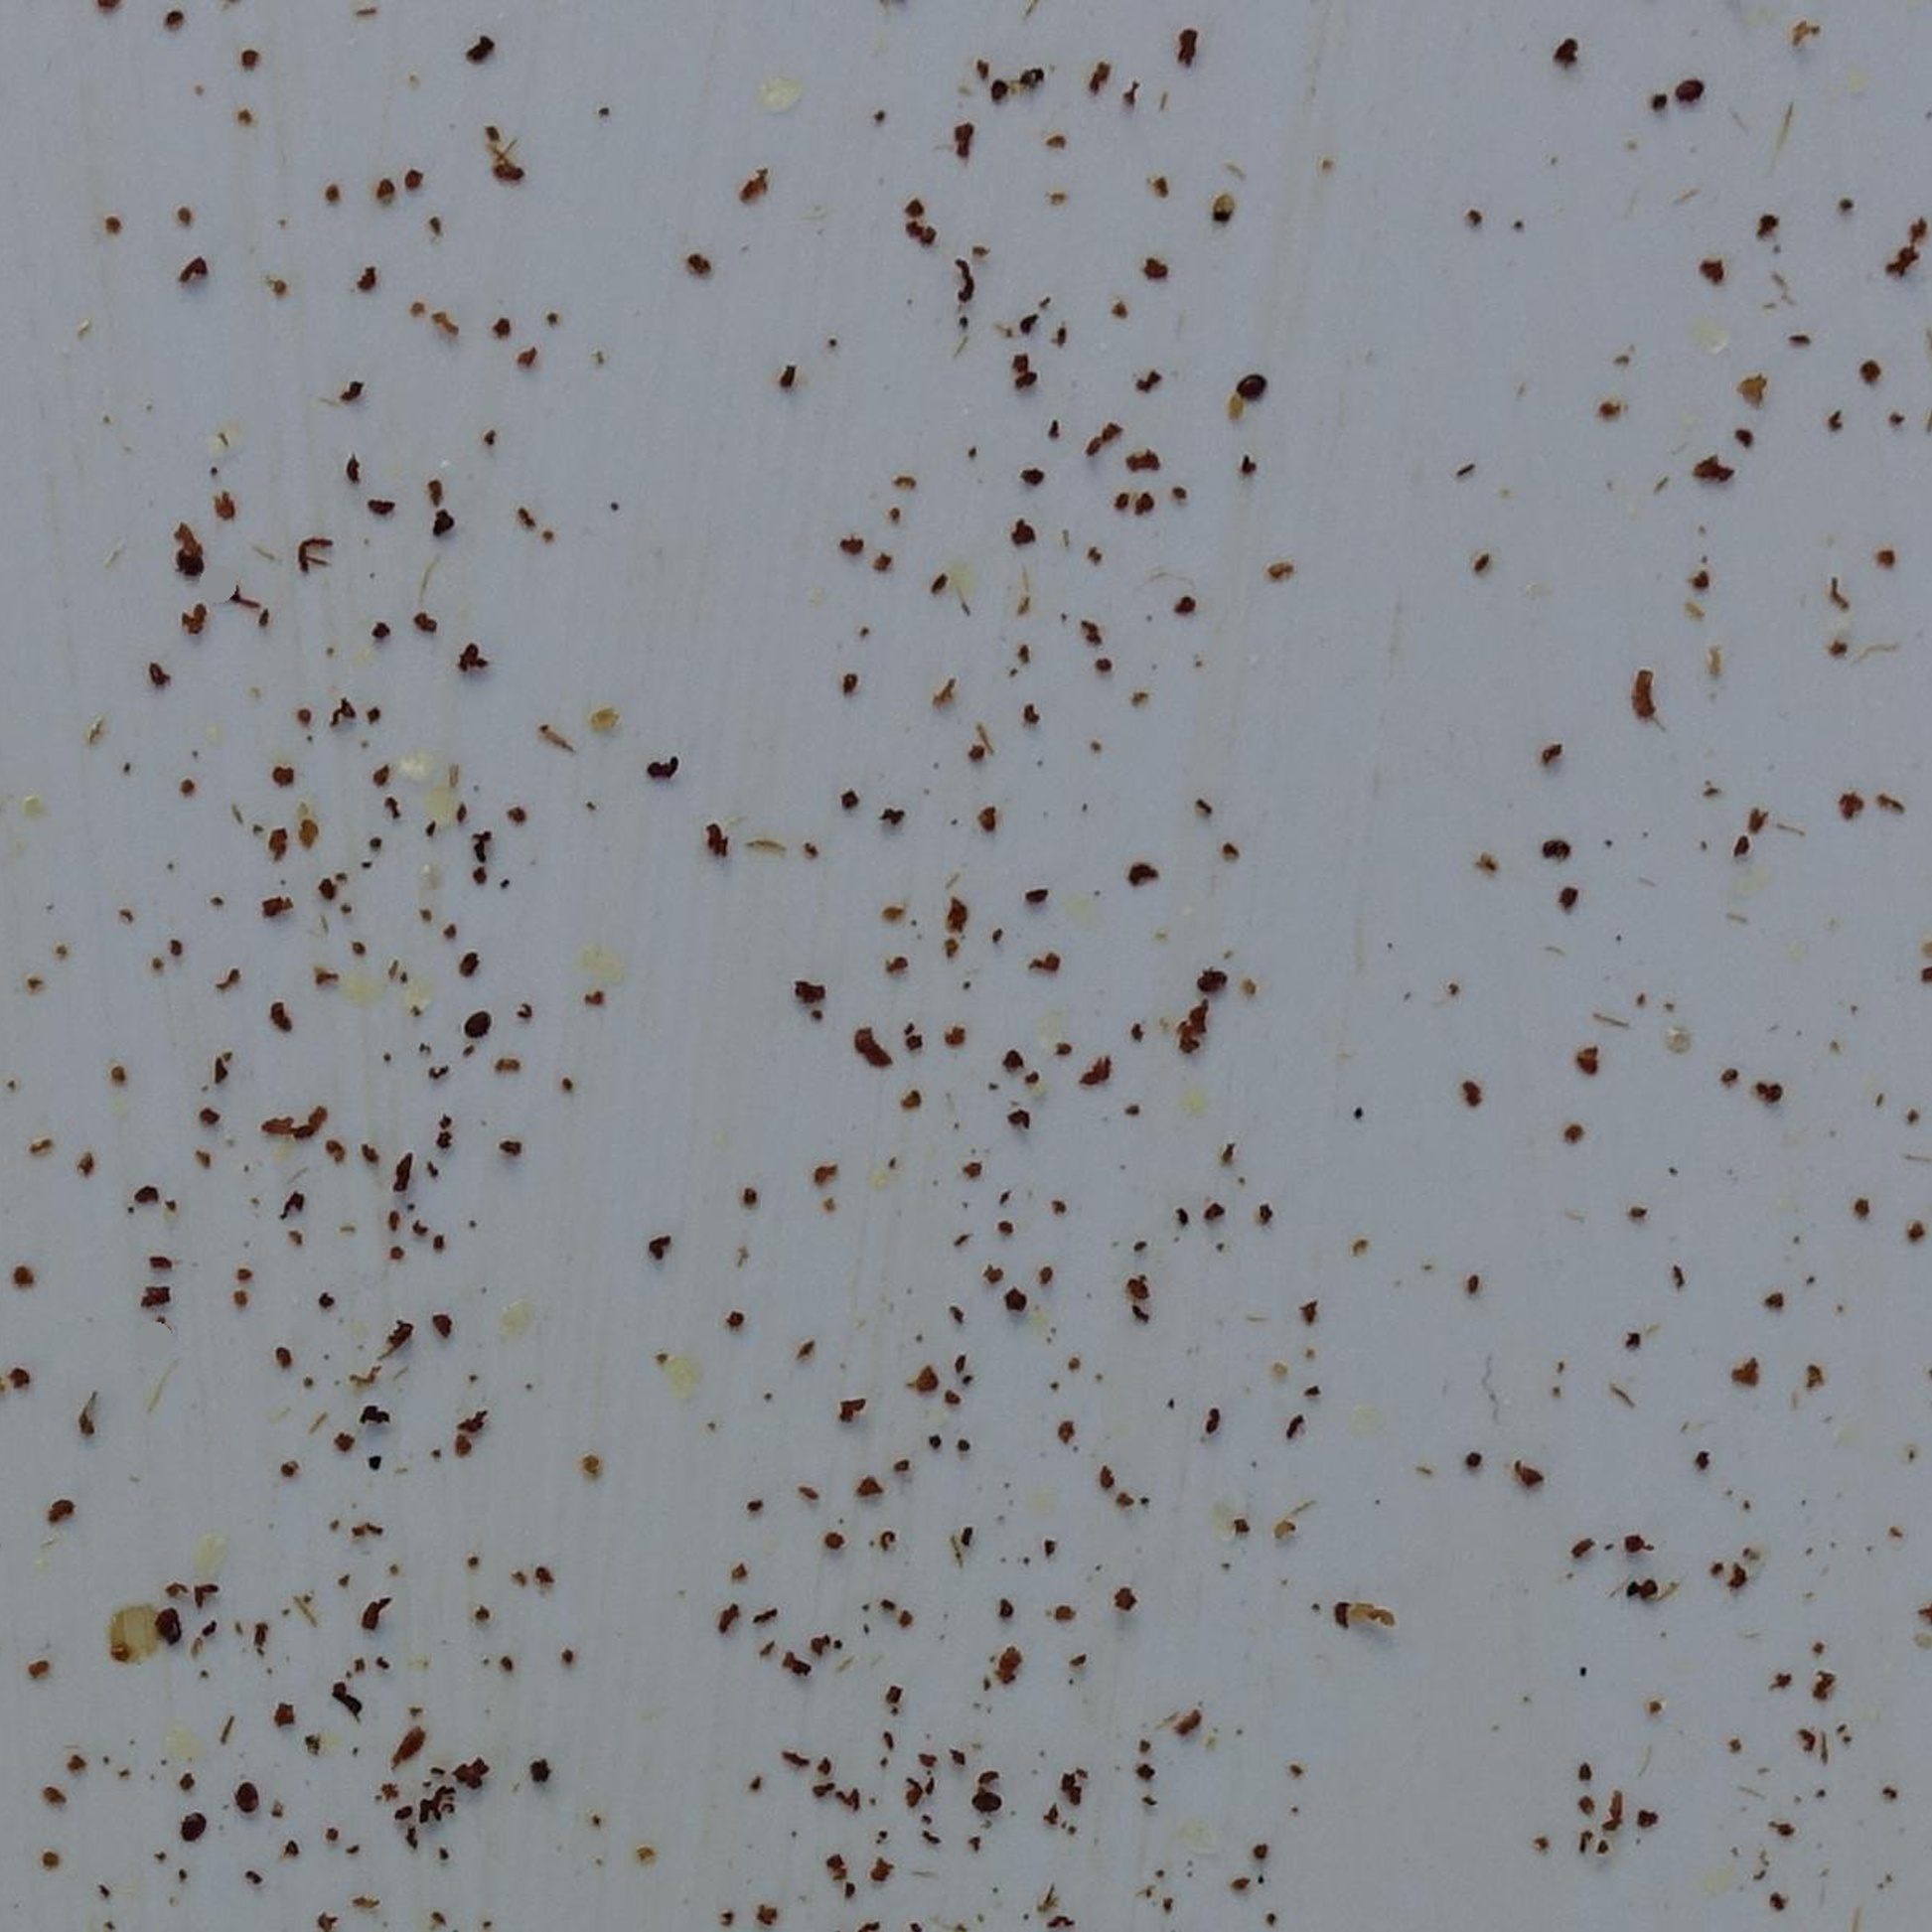Varroa: (1200, 966, 1223, 991), (1677, 80, 1700, 103), (977, 1790, 998, 1813), (469, 1014, 490, 1035), (159, 1612, 180, 1633), (237, 1785, 255, 1805), (1240, 375, 1258, 393), (182, 1819, 200, 1836)
